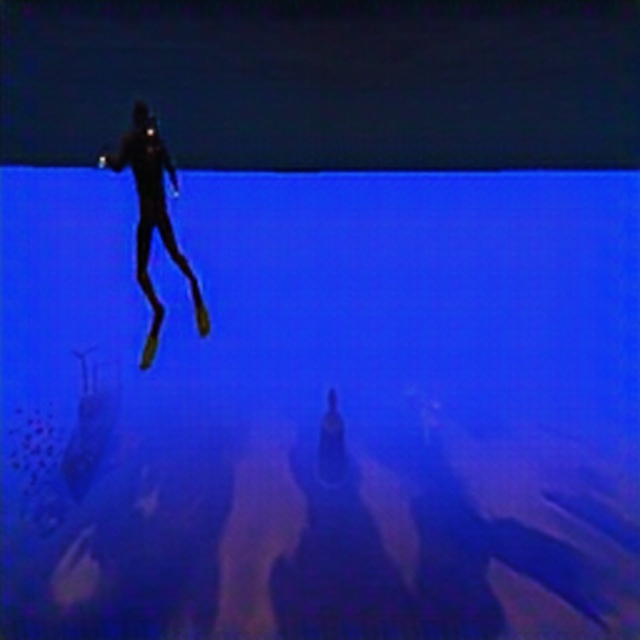diver: (96, 97, 211, 348)
